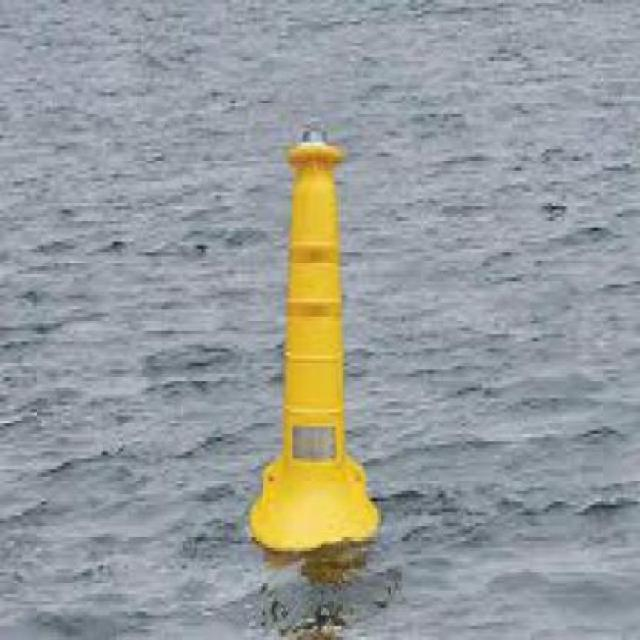buoy: (232, 115, 392, 573)
